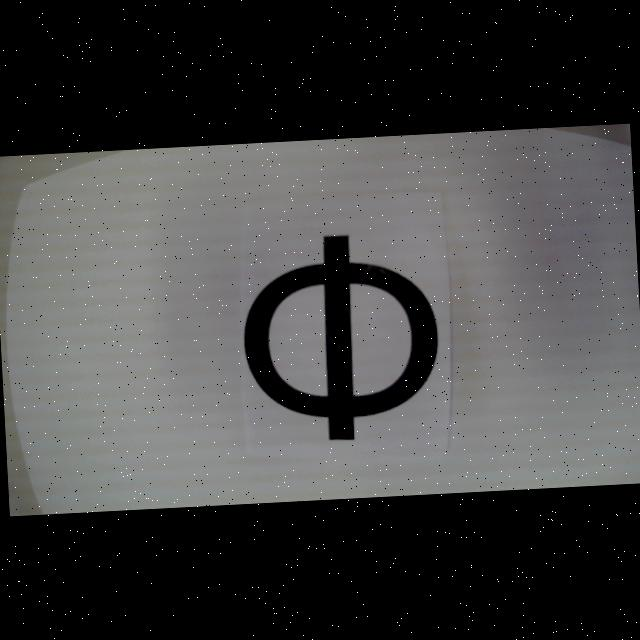PHI: (238, 230, 444, 446)
